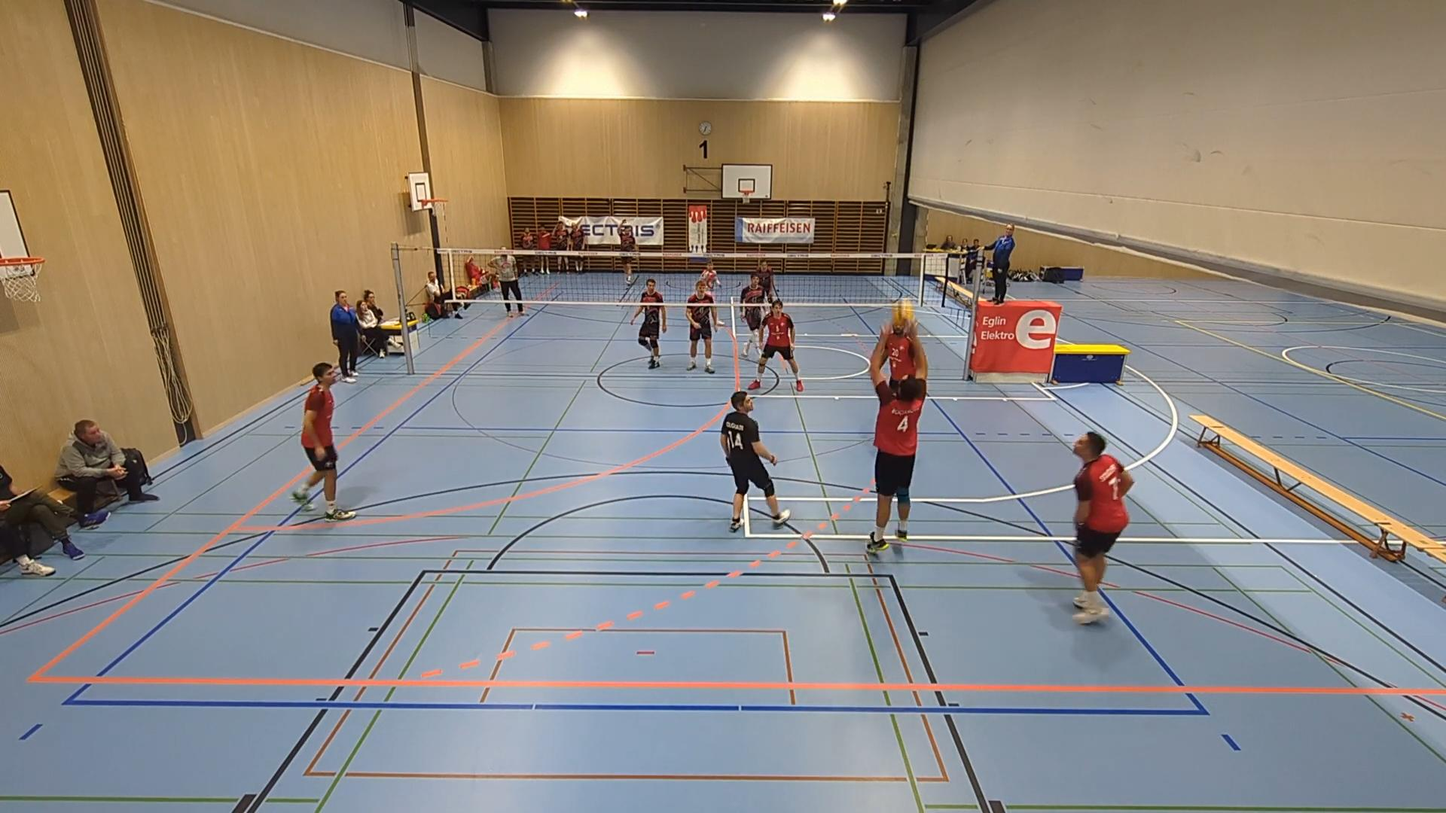ricezione: (868, 325, 929, 558)
